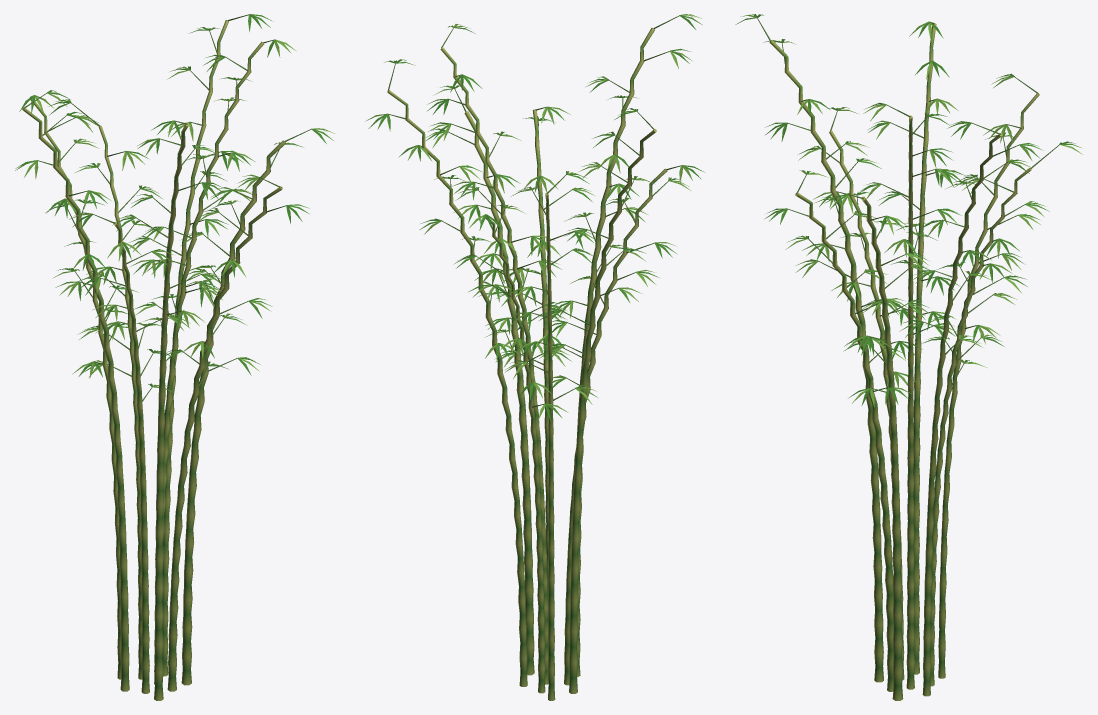
The model's file is bambu_rumpun.glb.
The picture shows the model from 3 angles, left to right: view 1: azimuth 30°, elevation 25°; view 2: azimuth 150°, elevation 25°; view 3: azimuth 270°, elevation 25°; orthographic projection. The views are drawn at different scales.
Parts seen in each view (by area): view 1: bambu_rumpun; view 2: bambu_rumpun; view 3: bambu_rumpun.
Boxes of the visible parts, <box> form: bambu_rumpun: <box>15,14,334,700</box>; bambu_rumpun: <box>365,14,704,700</box>; bambu_rumpun: <box>735,14,1082,700</box>.
Bounding box in the file's own units: 4.45 × 10.12 × 5.
